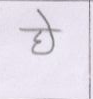e_matra: (37, 9, 55, 28)
